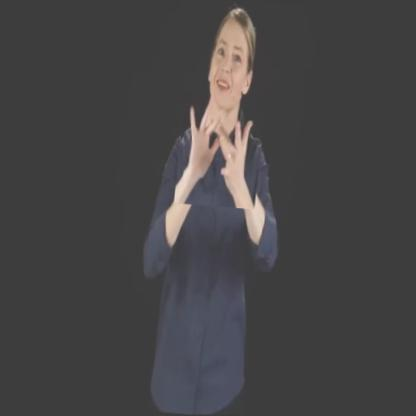Internet: (175, 92, 267, 210)
